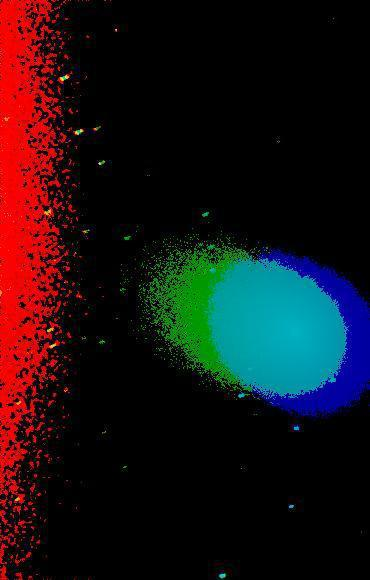star: (243, 530, 273, 560)
